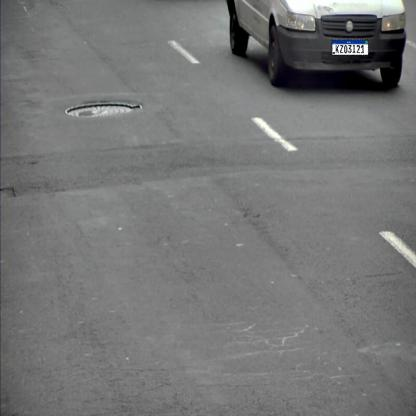PlacaM: (332, 40, 368, 56)
